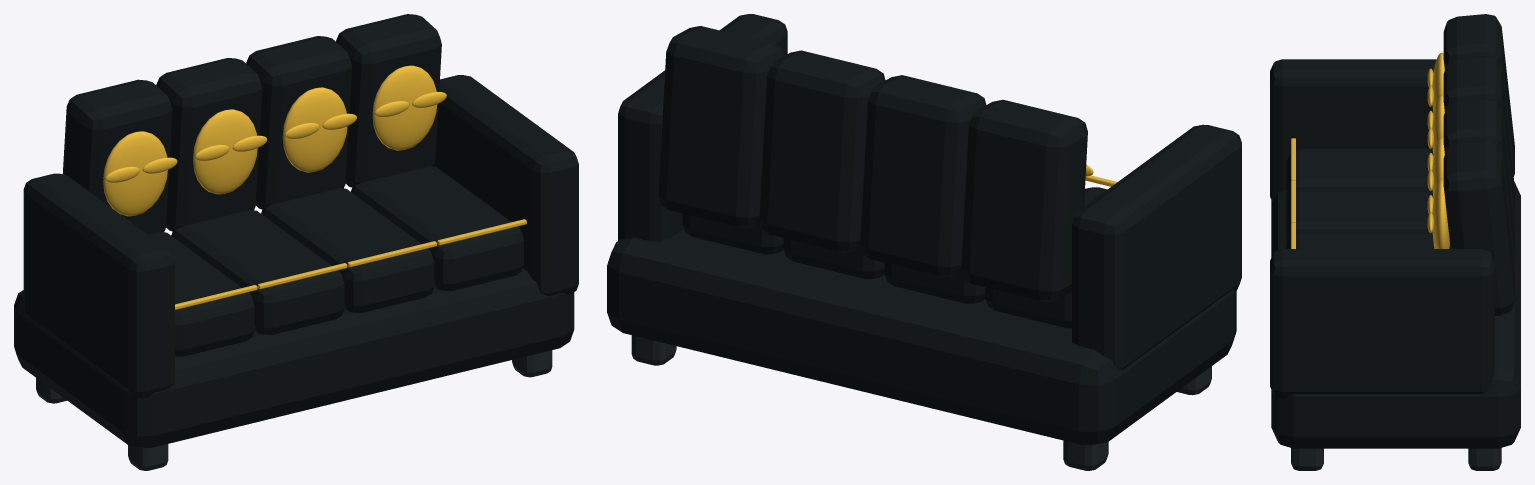
The model's file is better.glb.
3 views of the same model, side by side, from view 1: azimuth 30°, elevation 25°; view 2: azimuth 150°, elevation 25°; view 3: azimuth 270°, elevation 25° (orthographic). The views are drawn at different scales.
Visible parts, largest first — view 1: Armrest, Decorative cushion, Sofa foot; view 2: Armrest, Sofa foot; view 3: Armrest, Decorative cushion, Sofa foot.
Boxes of the visible parts, x1,y1,x2,y2 form: Armrest: [14, 14, 578, 448]; Decorative cushion: [103, 65, 526, 309]; Sofa foot: [36, 350, 552, 470]; Armrest: [607, 14, 1241, 445]; Sofa foot: [631, 335, 1211, 470]; Armrest: [1270, 14, 1520, 448]; Decorative cushion: [1291, 52, 1449, 248]; Sofa foot: [1291, 448, 1501, 470].
Size of the model in its own units: 2 by 1.26 by 1.01.
